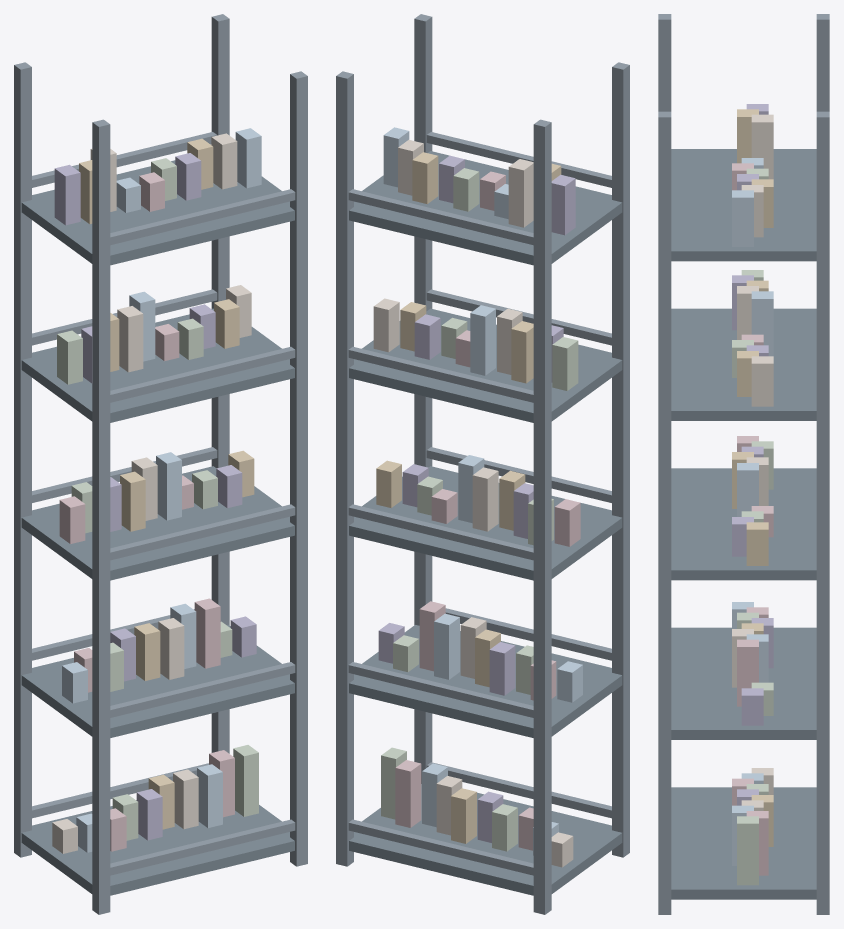
File: library-tower.glb
3 renders of one model, left to right at view 1: azimuth 30°, elevation 25°; view 2: azimuth 150°, elevation 25°; view 3: azimuth 270°, elevation 25°, orthographic.
Parts seen in each view (by area): view 1: post_2, post_3, post_0, deck_3, deck_4, deck_2, deck_1, deck_0, post_1, brace_x2_0.4, brace_x2_6.8, brace_x2_5.2 (+50 smaller); view 2: post_0, post_1, post_2, deck_0, deck_2, deck_4, deck_1, deck_3, post_3, brace_x_0.4, brace_x_6.8, brace_x_5.2 (+50 smaller); view 3: deck_1, deck_2, deck_0, deck_4, deck_3, post_1, post_3, book_0_9, post_0, post_2, book_4_9, book_3_4 (+23 smaller).
Boxes of the visible parts, x1,y1,x2,y2 form: post_2: (92, 119, 110, 914); post_3: (290, 71, 307, 866); post_0: (14, 62, 31, 857); deck_3: (21, 308, 294, 422); deck_4: (21, 160, 294, 265); deck_2: (21, 466, 294, 580); deck_1: (21, 625, 294, 737); deck_0: (21, 800, 294, 895); post_1: (211, 14, 229, 753); brace_x2_0.4: (110, 819, 295, 875); brace_x2_6.8: (110, 189, 295, 245); brace_x2_5.2: (110, 346, 295, 402); post_0: (533, 119, 551, 914); post_1: (336, 71, 353, 866); post_2: (612, 62, 629, 857); deck_0: (349, 784, 622, 895); deck_2: (349, 466, 622, 580); deck_4: (349, 151, 622, 265); deck_1: (349, 625, 622, 737); deck_3: (349, 308, 622, 422); post_3: (414, 14, 432, 783); brace_x_0.4: (348, 819, 533, 875); brace_x_6.8: (348, 189, 533, 245); brace_x_5.2: (348, 346, 533, 402); deck_1: (671, 627, 816, 739); deck_2: (671, 468, 816, 580); deck_0: (671, 787, 816, 899); deck_4: (671, 149, 816, 261); deck_3: (671, 308, 816, 420); post_1: (816, 111, 829, 914); post_3: (658, 111, 671, 914); book_0_9: (737, 816, 758, 885); post_0: (816, 14, 829, 111); post_2: (658, 14, 671, 111); book_4_9: (732, 190, 753, 246); book_3_4: (751, 291, 773, 356).
Size of the model in its own units: 2.22 by 8 by 1.56.
